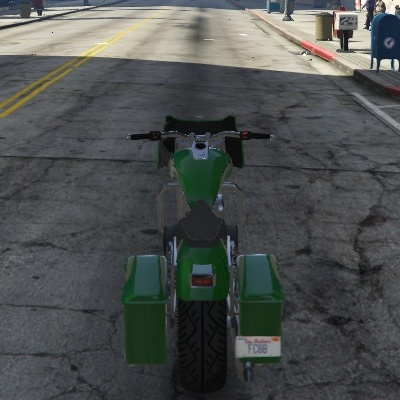off: (186, 259, 218, 294)
